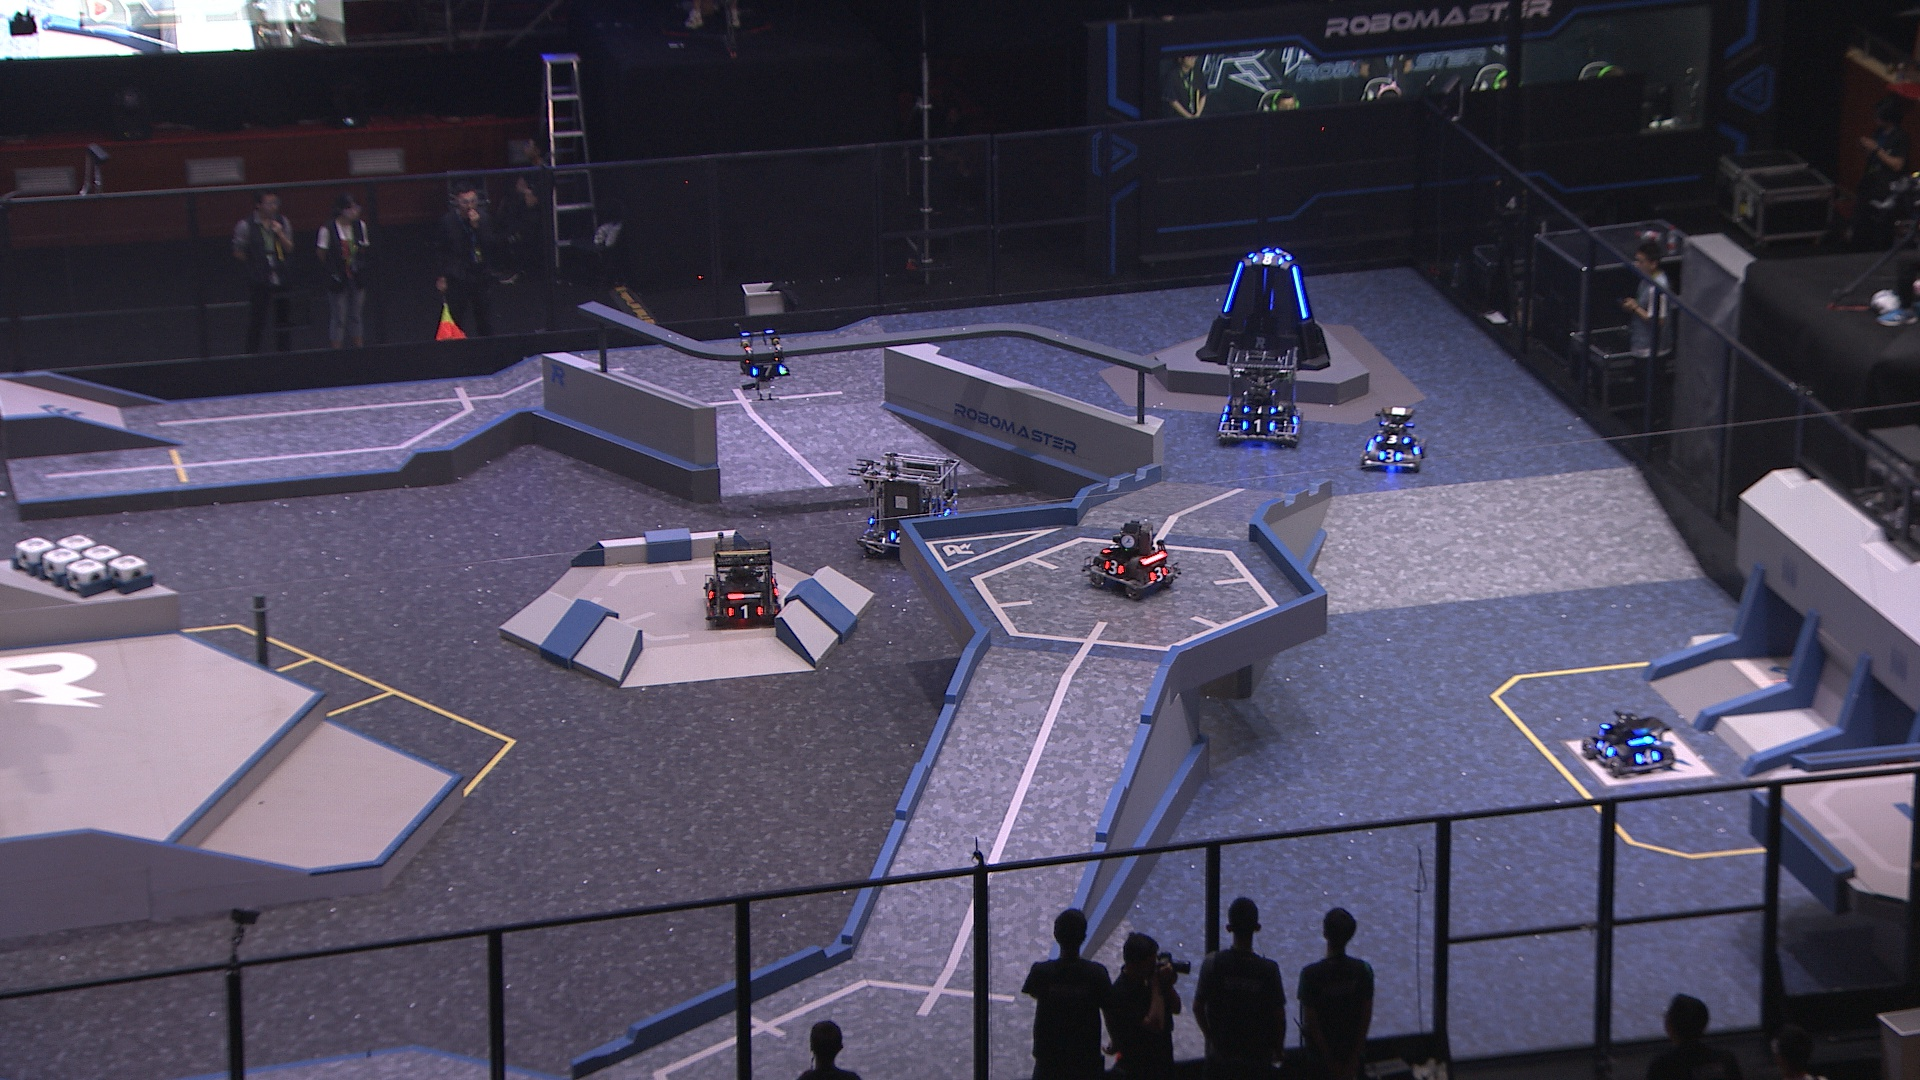armor: (1286, 262, 1313, 324), (1220, 258, 1247, 315), (1240, 414, 1276, 434), (749, 361, 787, 380), (1247, 248, 1284, 266), (1240, 401, 1280, 417), (1373, 433, 1414, 448), (728, 603, 765, 618), (1636, 746, 1664, 766), (1377, 446, 1403, 465), (1102, 559, 1126, 579), (1593, 737, 1613, 760), (1149, 562, 1168, 584), (700, 578, 717, 603), (1406, 436, 1423, 458), (1098, 541, 1120, 555), (887, 527, 905, 545), (1276, 247, 1292, 261)
base: (1195, 243, 1331, 372)
car: (855, 450, 965, 559), (1215, 342, 1305, 446), (698, 531, 787, 632), (1081, 517, 1185, 600), (1578, 711, 1679, 778), (1358, 404, 1429, 472)
watcher: (733, 324, 790, 401)
